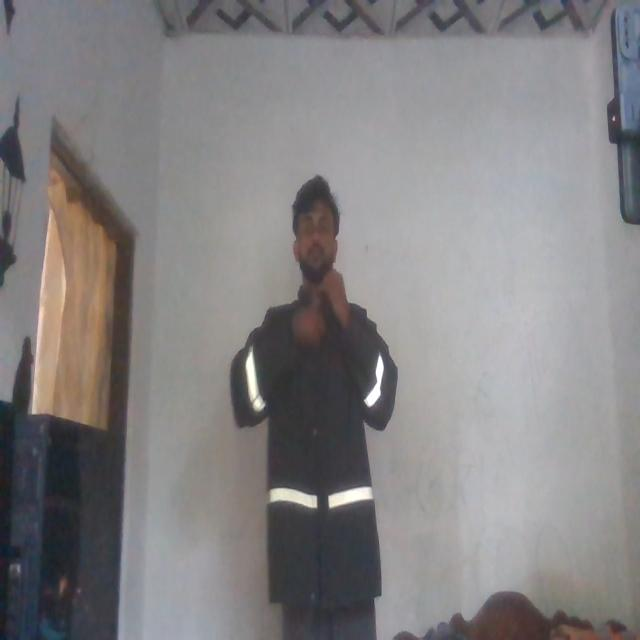Jacket_Wearer: (231, 281, 397, 603)
Person: (224, 162, 408, 640)
